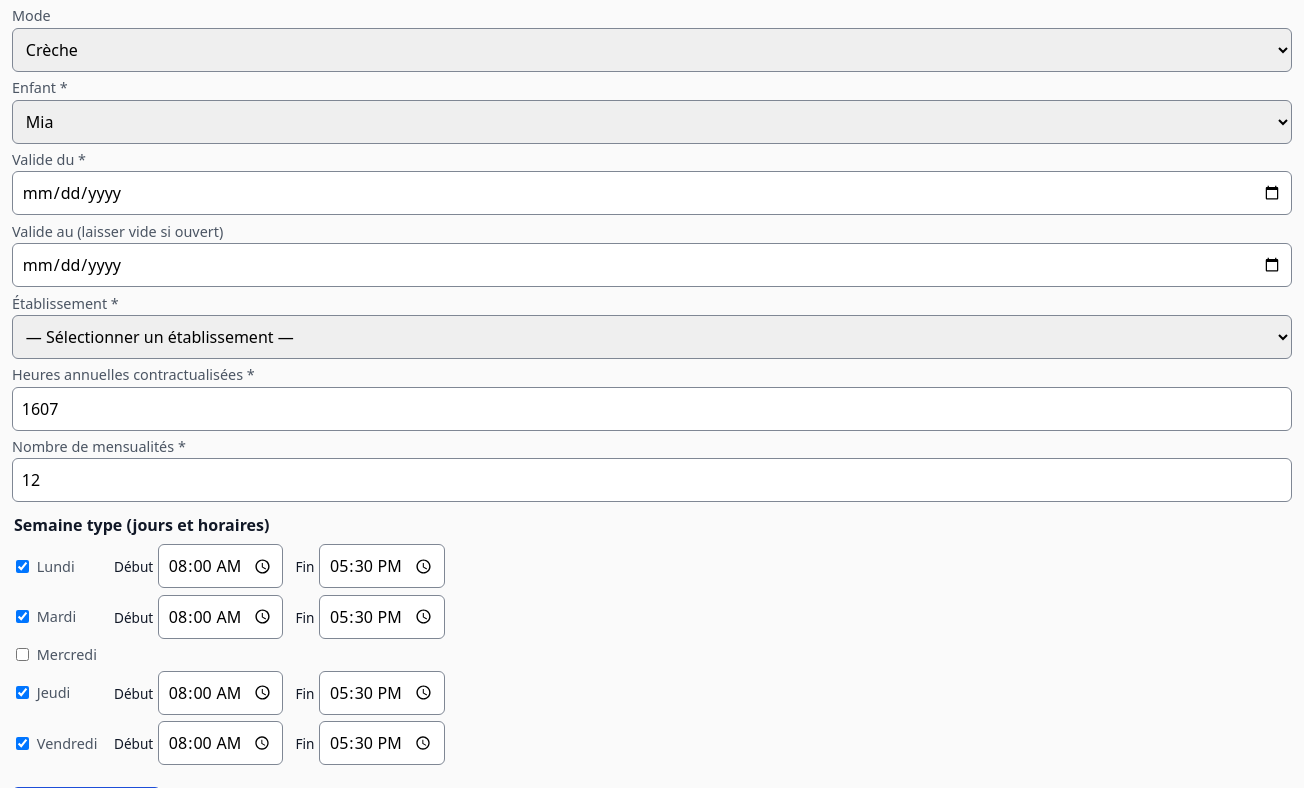
Test case: ContratForm › bascule vers les champs CANTINE
Select "Cantine" in the dropdown labelled "Mode" at coordinates (652, 50), box [12, 28, 1292, 72]
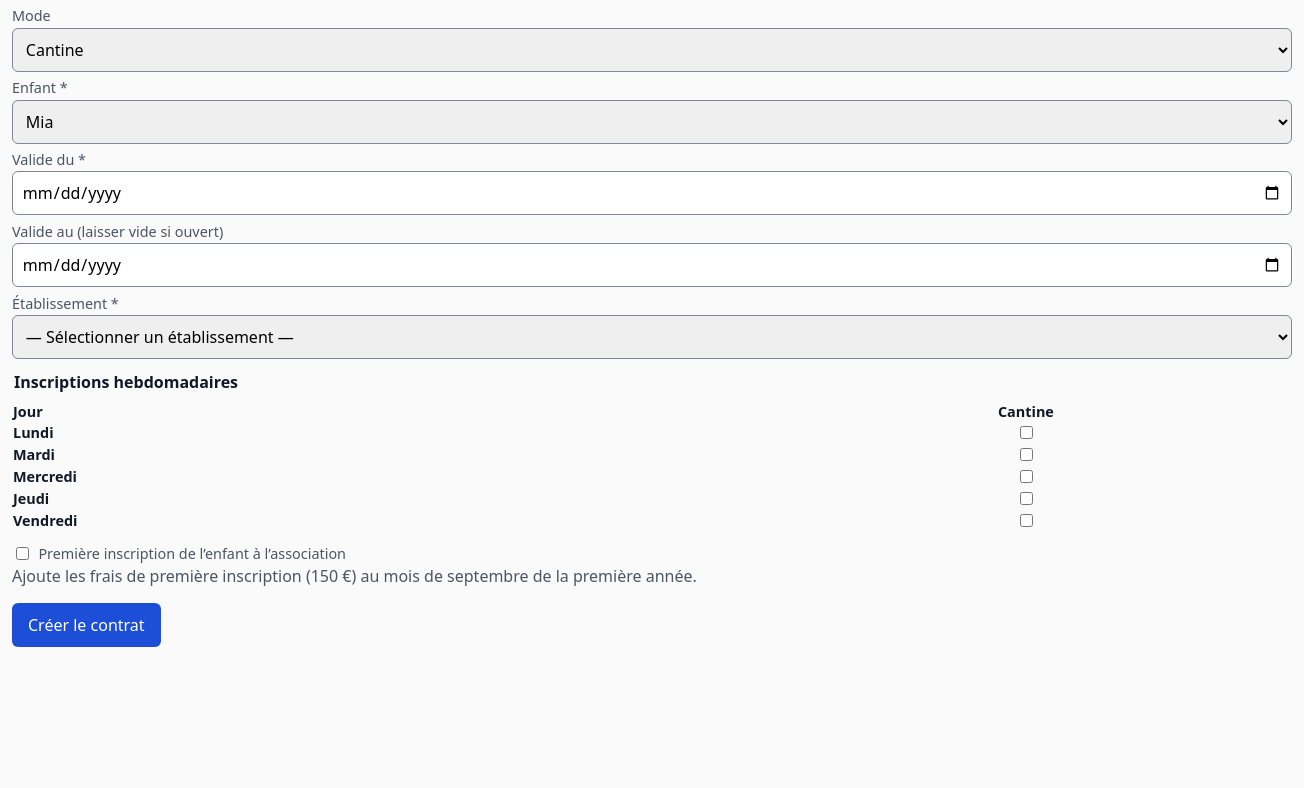
Check: the label labelled "Heures annuelles" is gone
Check: the label labelled "mensualités" is gone
Check: the text "Inscriptions hebdomadaires" is shown, box [12, 371, 240, 393]
